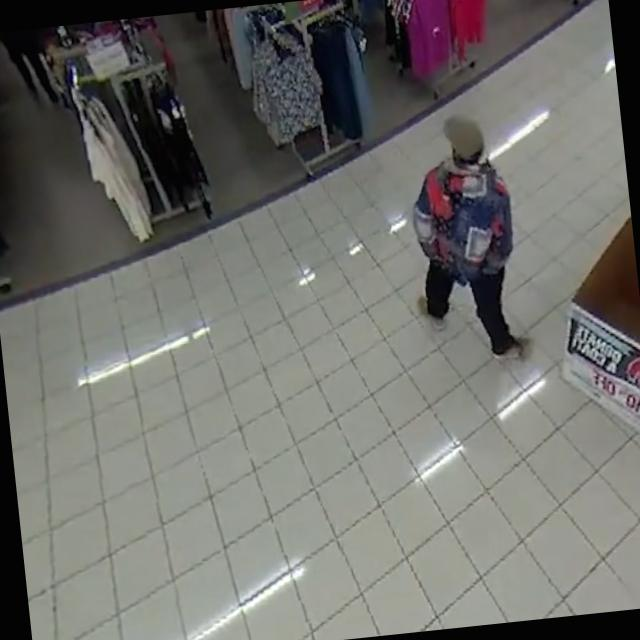person: (400, 108, 529, 366)
